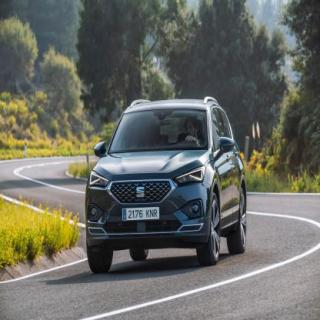Normal_vehicle: (86, 97, 246, 272)
